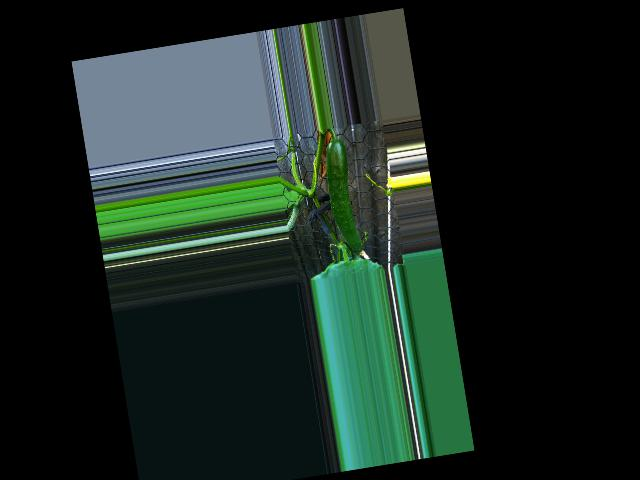cucumber: (319, 137, 363, 254)
